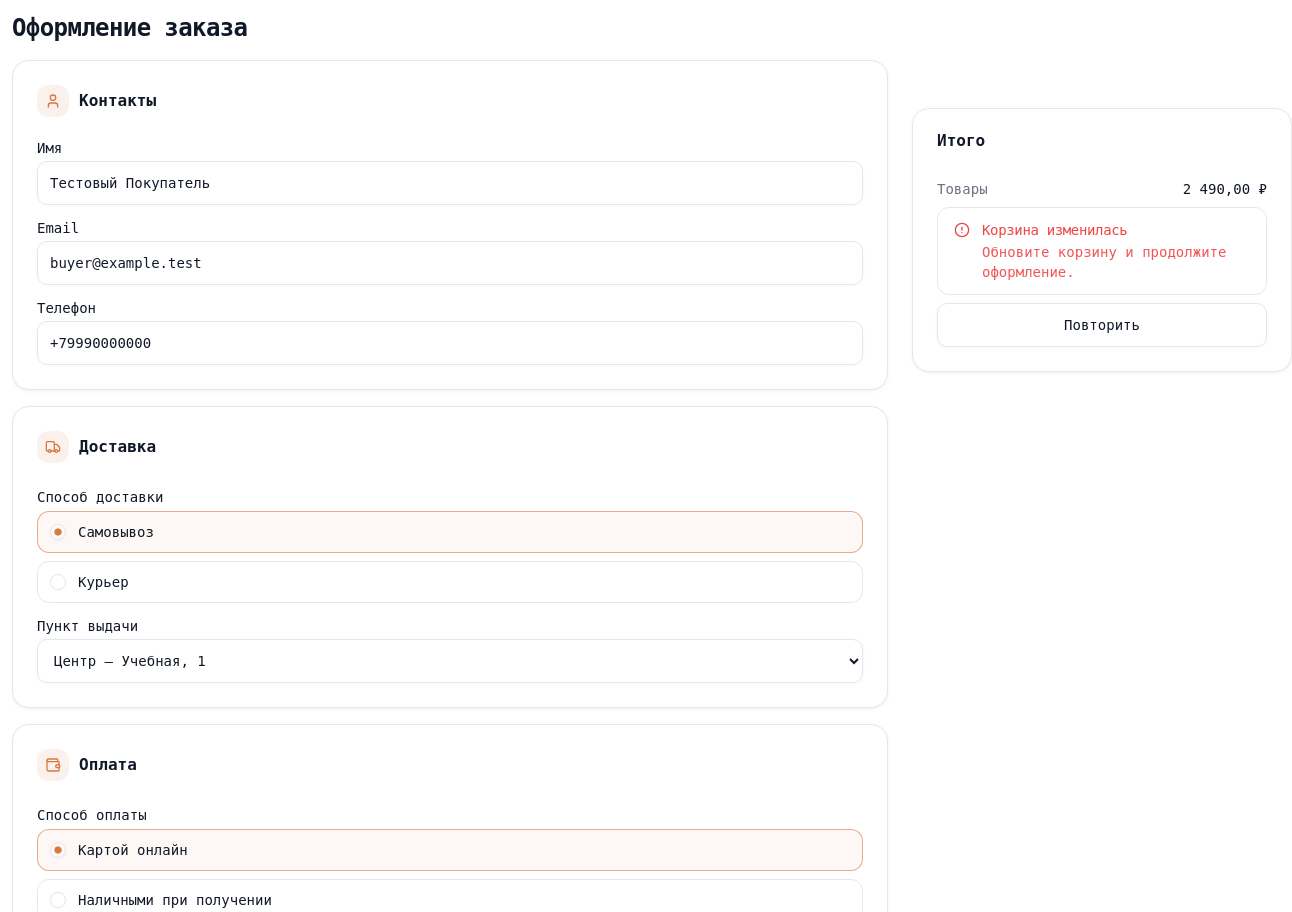
Scenario: CheckoutPage › после конфликта версии корзины предлагает продолжить оформление
Expected: the text "Корзина изменилась" is shown, [982,222,1127,238]
Expected: the field labelled "Имя" holds "Тестовый Покупатель", [37,161,863,205]
Click the button "Повторить". click: x=1102, y=325
box: [937,303,1267,347]
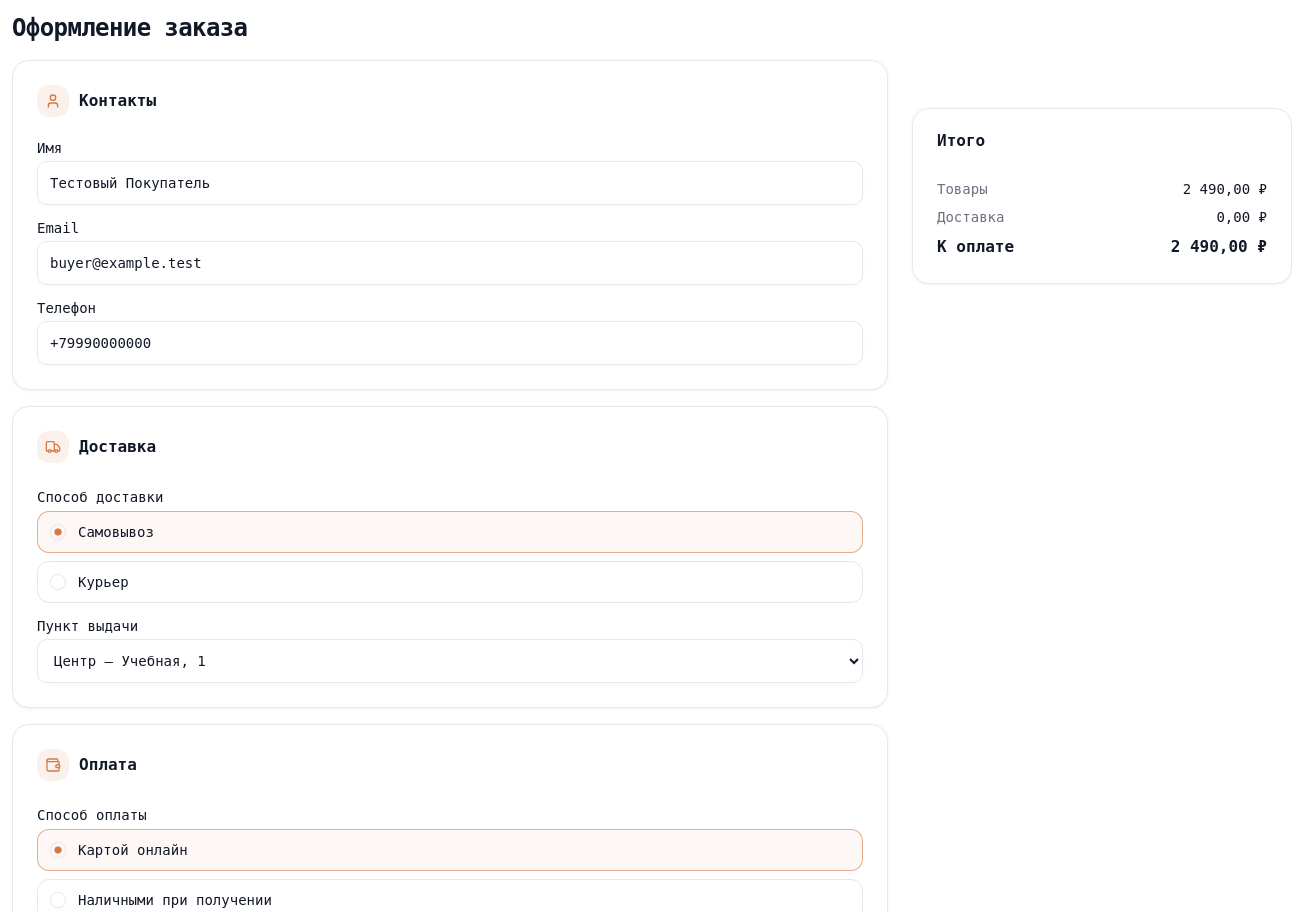
Now the text "К оплате" is shown, box [937,235,1014,259]
